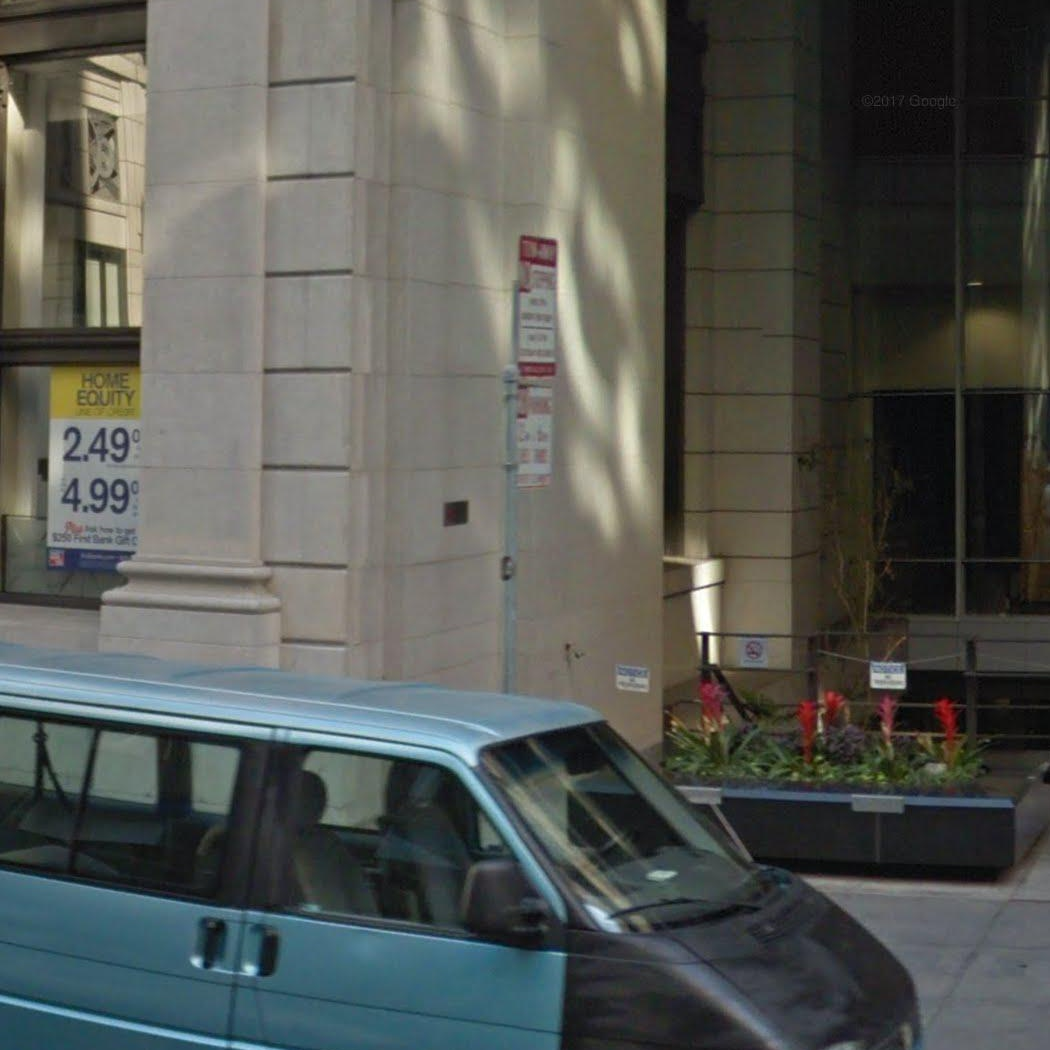No Parking: (513, 389, 555, 489)
